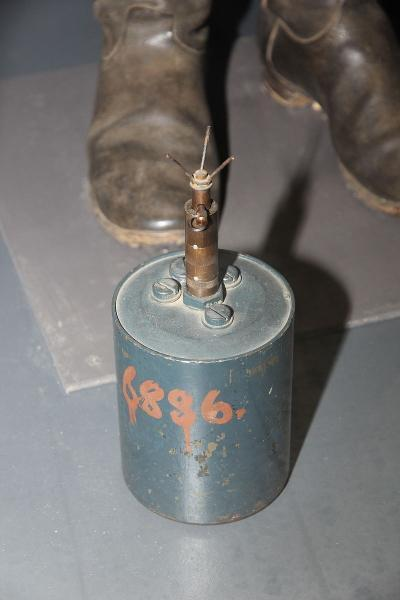OZM 72: (114, 248, 296, 526)
